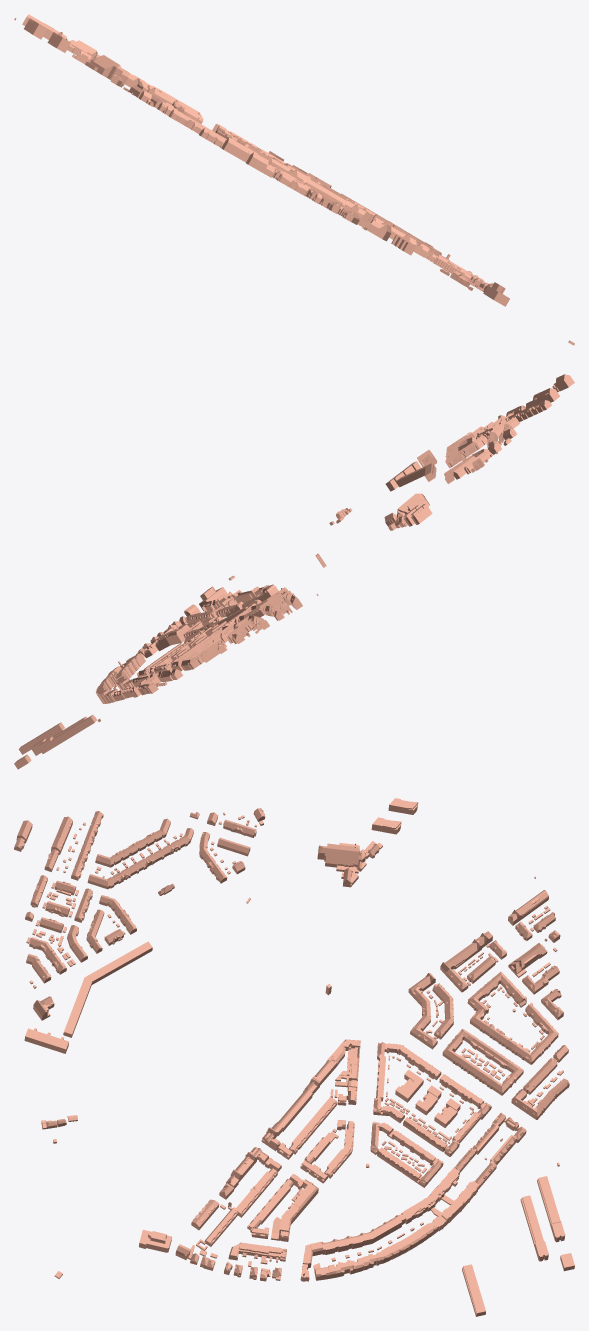
3 renders of one model, top to bottom at view 1: azimuth 30°, elevation 25°; view 2: azimuth 150°, elevation 25°; view 3: azimuth 270°, elevation 25°, orthographic. The views are drawn at different scales.
Bounding box in the file's own units: 1.7e+07 × 1.35e+07 × 2.08e+07.
